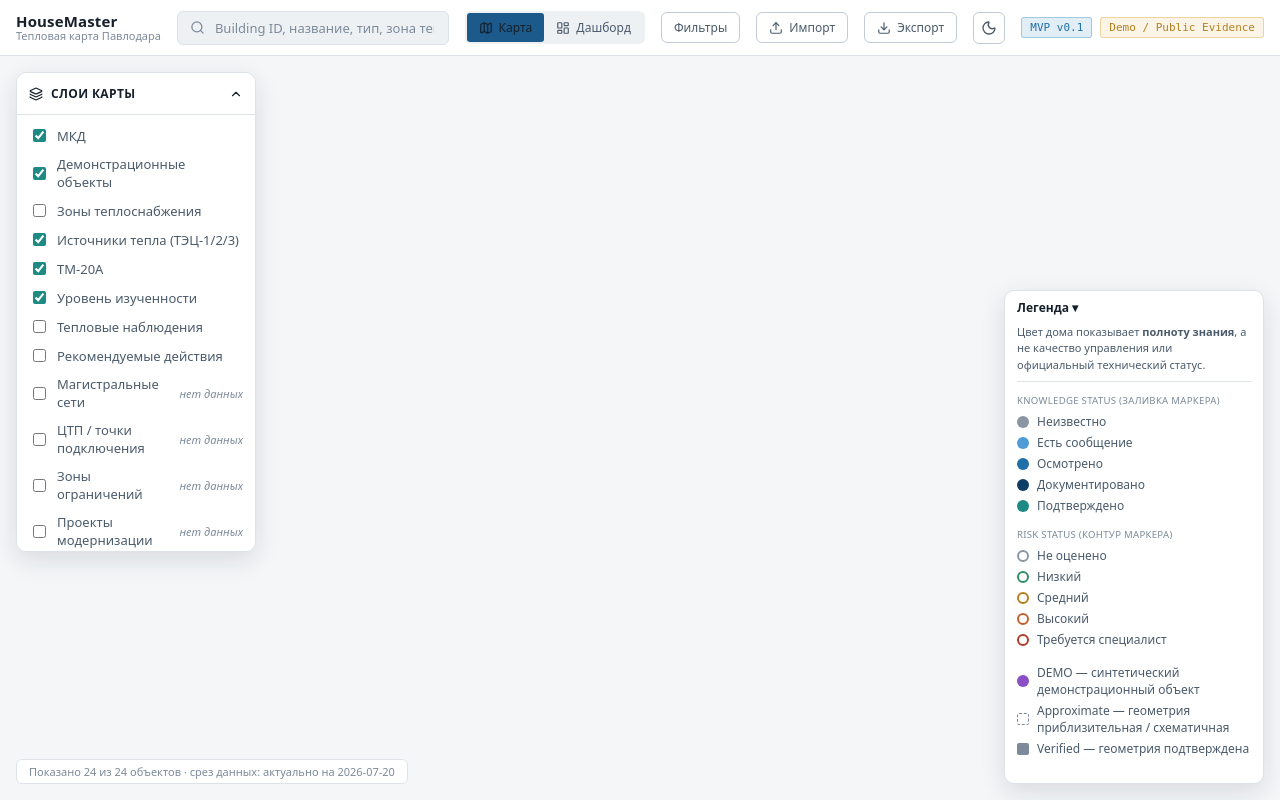
Test: App smoke test › opens the filter panel and shows result count
Click the button "Фильтры" at coordinates (701, 28), box [661,12,740,43]
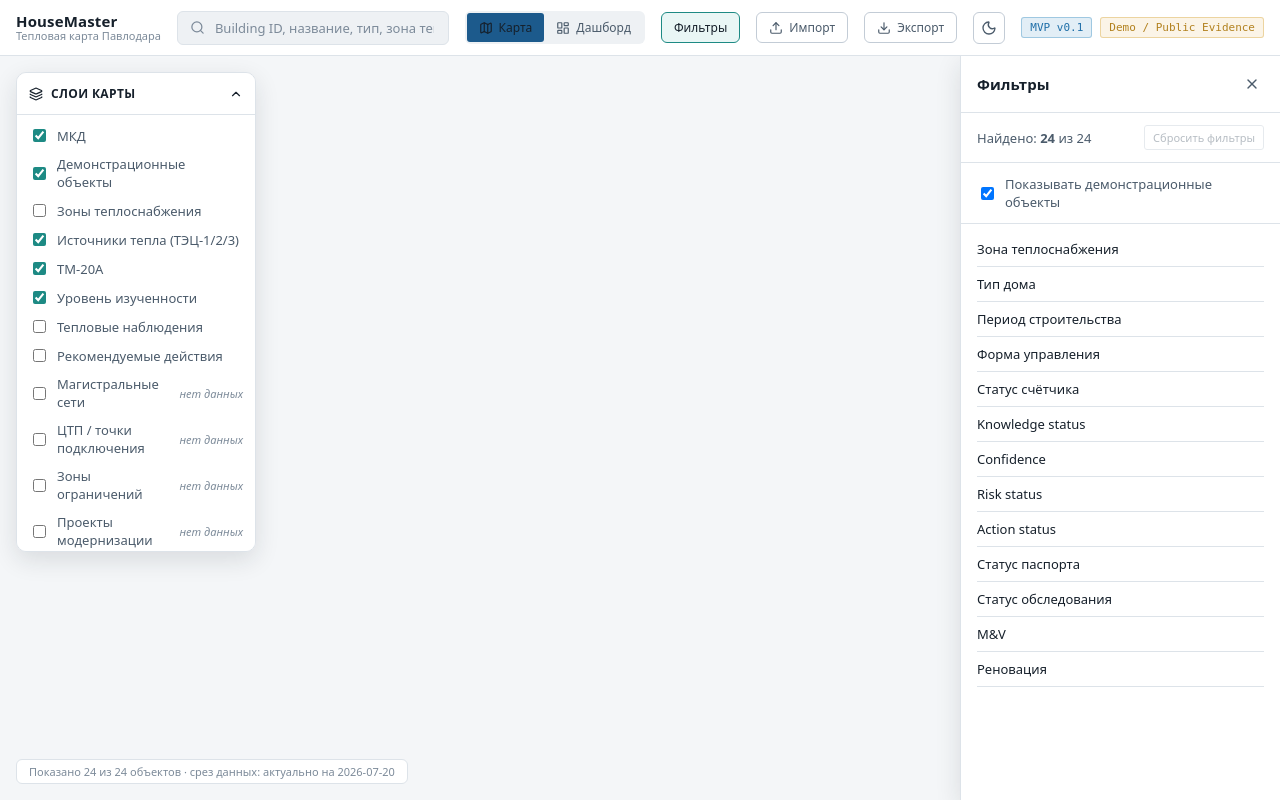
Expected: the text "Найдено: 24 из 24" is shown, [977,128,1091,146]
